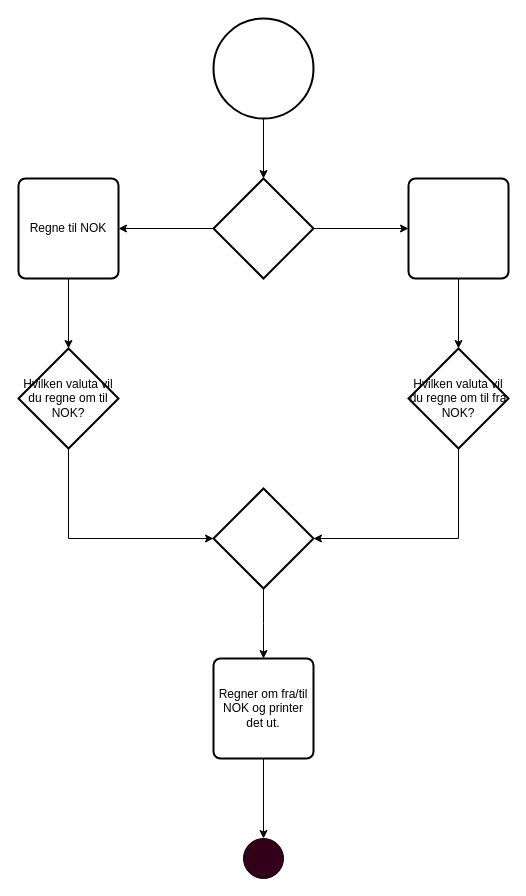
The diagram is 526 pixels wide and 896 high, and some of its shapes have lost their labels. Here are the shapes that lost their labels. From the top down, the centre of each, then its label:
At (263,228): "Regne til eller fra NOK?".
At (458,228): "Regne fra NOK".
